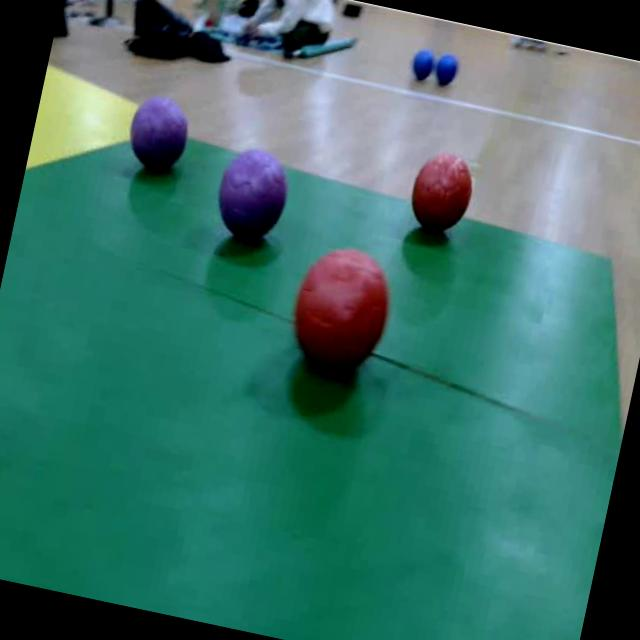blue_ball: (431, 48, 464, 92), (408, 46, 436, 84)
purple_ball: (208, 140, 296, 252), (119, 89, 196, 182)
red_ball: (277, 237, 403, 391), (402, 146, 481, 243)
